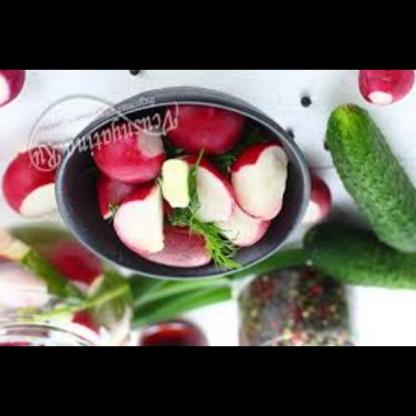cucumber: (321, 104, 416, 261), (297, 227, 416, 292)
rediska: (88, 115, 291, 272), (1, 146, 74, 224), (54, 245, 102, 302), (290, 174, 338, 228), (357, 71, 416, 108), (0, 70, 34, 113)
